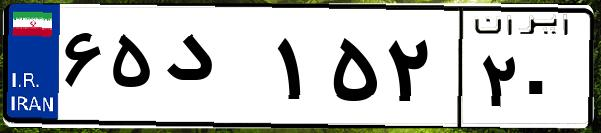0: (525, 38, 570, 115)
1: (270, 28, 330, 110)
2: (385, 28, 445, 110), (475, 38, 525, 113)
5: (330, 28, 385, 110), (110, 28, 158, 98)
6: (57, 26, 110, 100)
د: (158, 20, 270, 120)
